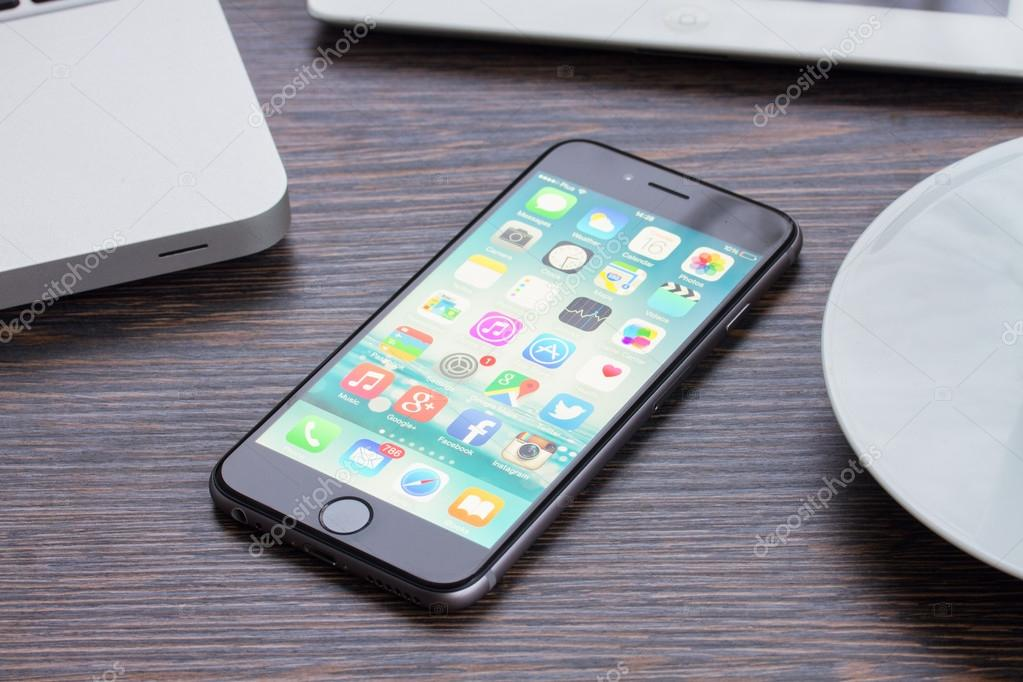Cell Phone: (217, 140, 789, 635)
